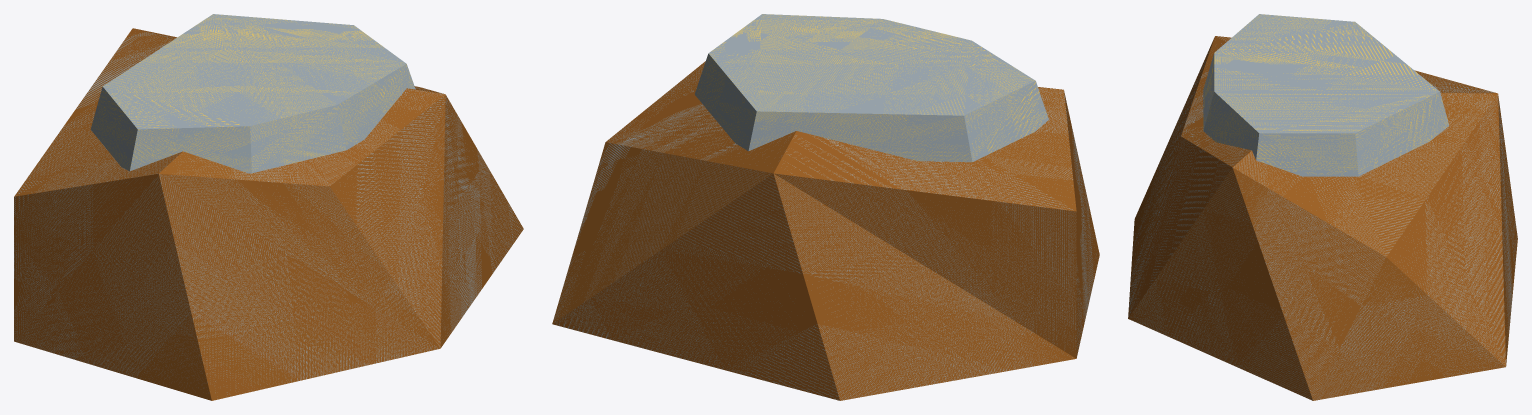
Rendered from Rock_Small_Dirt_Sand_01.fbx.
3 views of the same model, side by side, from view 1: azimuth 30°, elevation 25°; view 2: azimuth 150°, elevation 25°; view 3: azimuth 270°, elevation 25° (orthographic). The views are drawn at different scales.
Parts seen in each view (by area): view 1: Model; view 2: Model; view 3: Model.
Boxes of the visible parts, bbox=[...] form: Model: bbox=[14, 14, 523, 400]; Model: bbox=[552, 14, 1099, 400]; Model: bbox=[1128, 14, 1517, 400].
Bounding box in the file's own units: 232 × 124 × 173.
